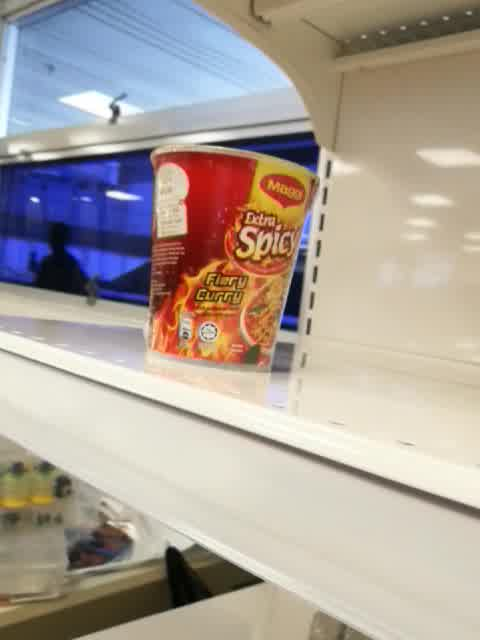maggi: (147, 143, 319, 377)
